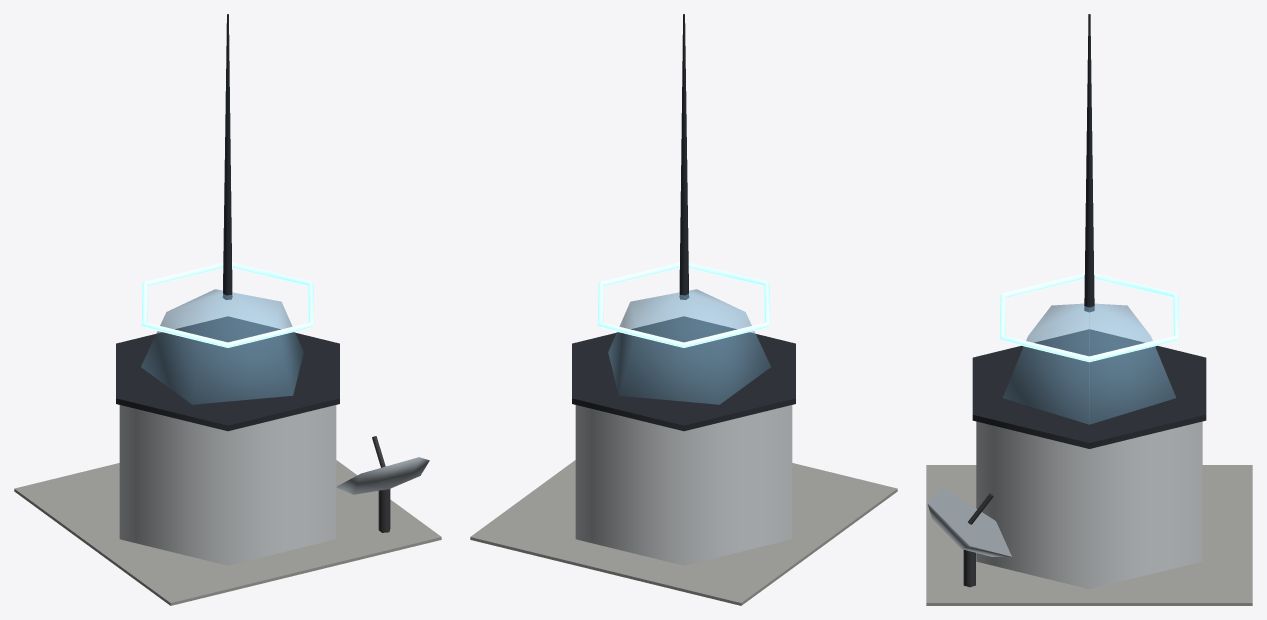
The model's file is bld_special_research_center_a09_lod2.glb.
3 renders of one model, left to right at view 1: azimuth 30°, elevation 25°; view 2: azimuth 150°, elevation 25°; view 3: azimuth 270°, elevation 25°, orthographic. The views are drawn at different scales.
Visible parts, largest first — view 1: body, antenna; view 2: body; view 3: body, antenna.
Part boxes in pixels (x1,y1,x2,y2): body: (14,14,441,605); antenna: (336,436,429,532); body: (470,14,897,605); body: (926,14,1252,605); antenna: (927,488,1011,587).
Bounding box in the file's own units: 15.5 × 26.5 × 15.
